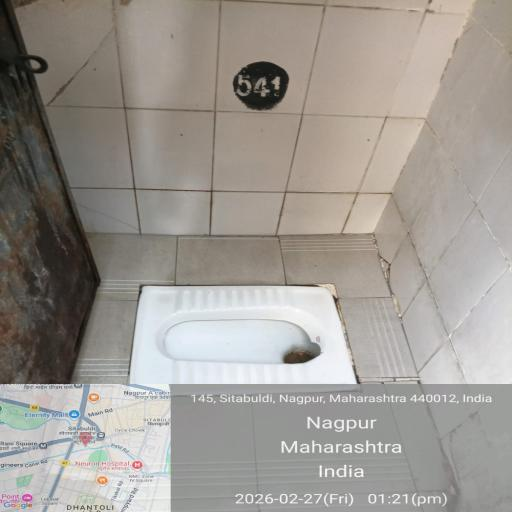clean_floor: (41, 0, 501, 214), (48, 339, 479, 512)
partial_dirty_indian: (148, 240, 447, 405)
